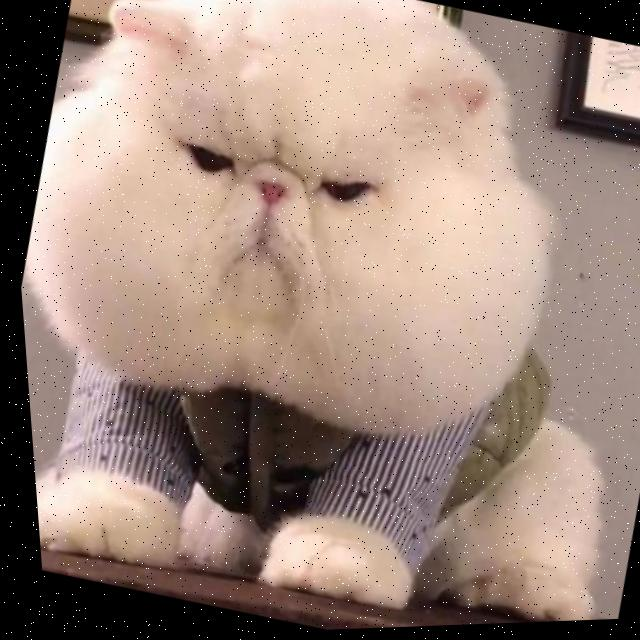Cats: (2, 0, 534, 439)
